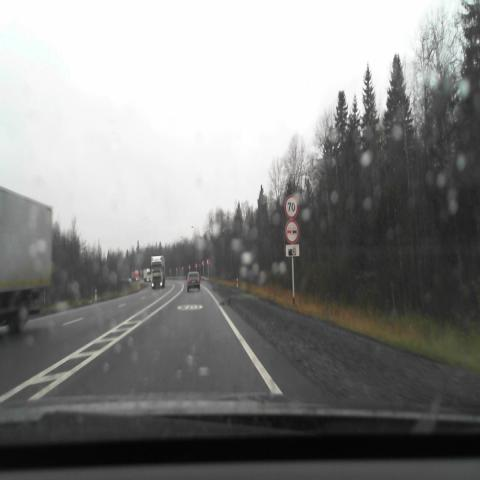3_20: (285, 219, 299, 244)
